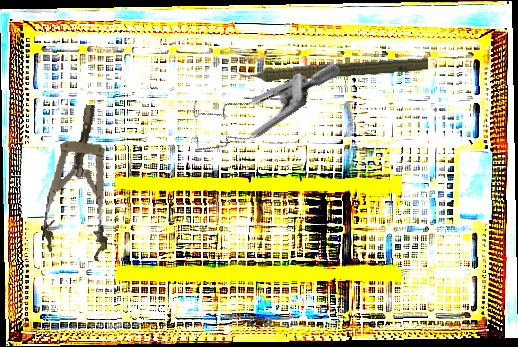Handpiece: (229, 50, 429, 87)
Speculum: (173, 10, 342, 192), (40, 101, 124, 262)
